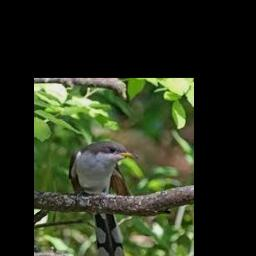Cuckoo: (68, 140, 139, 256)
